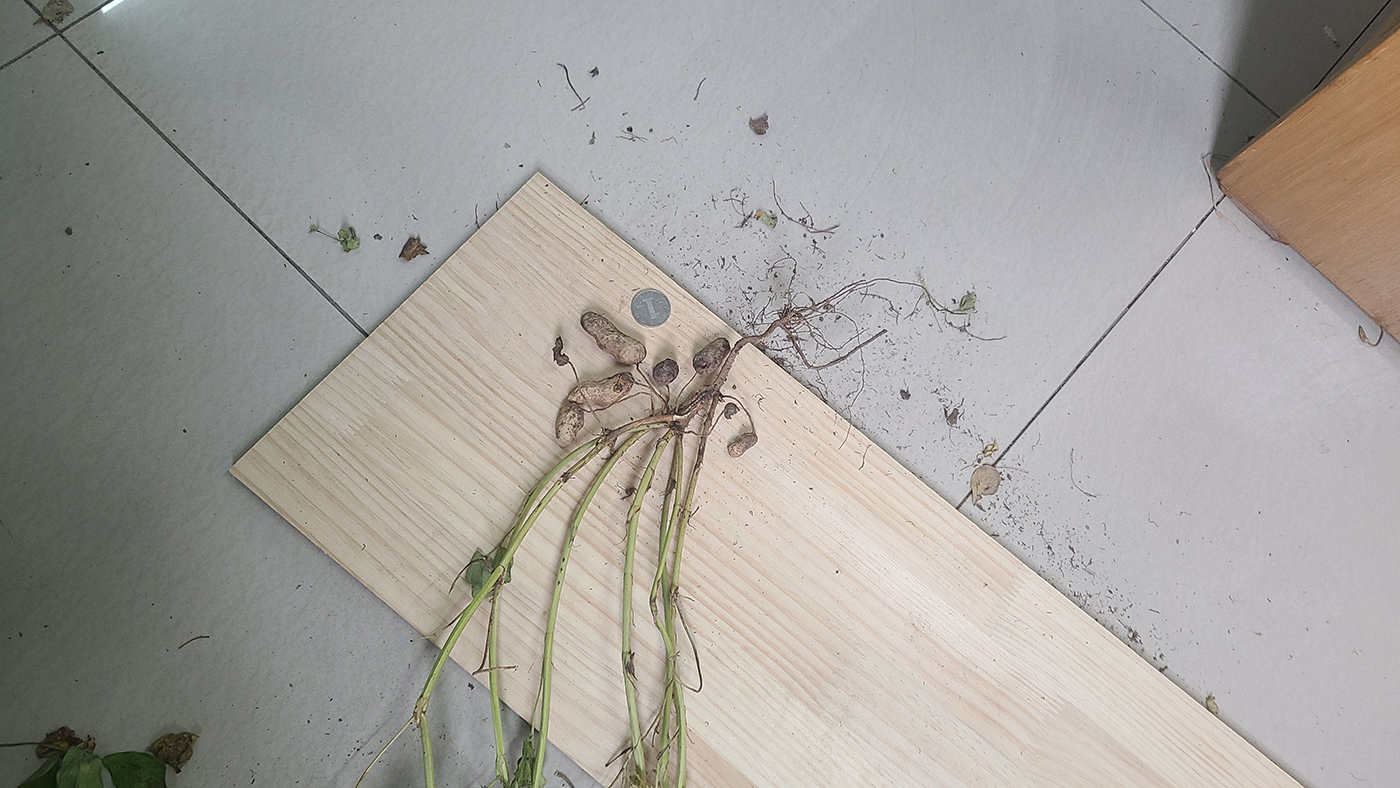h: (555, 402, 584, 445)
l: (580, 311, 646, 365), (567, 372, 635, 405), (693, 336, 732, 375), (727, 431, 759, 458), (653, 358, 680, 387), (553, 336, 569, 368), (723, 401, 741, 420)
